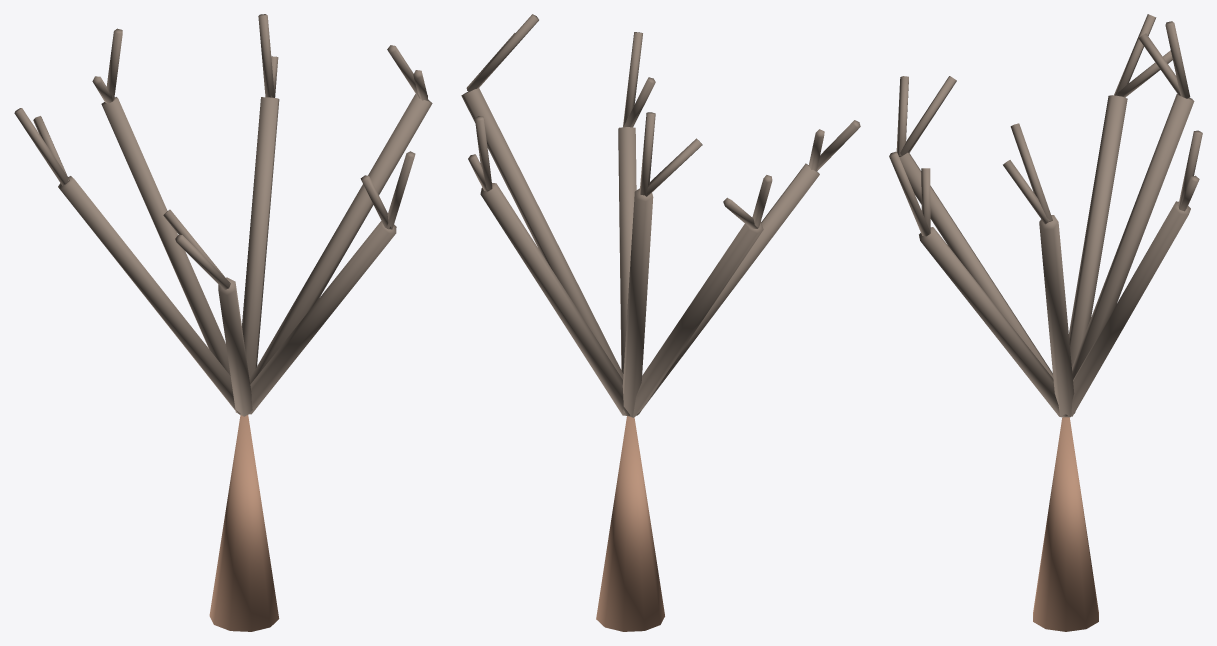
Rendered from tree_b_winter.glb.
3 views of the same model, side by side, from view 1: azimuth 30°, elevation 25°; view 2: azimuth 150°, elevation 25°; view 3: azimuth 270°, elevation 25° (orthographic).
Visible parts, largest first — view 1: branches, trunk; view 2: branches, trunk; view 3: branches, trunk.
Boxes of the visible parts, left/top/right/bottom form: branches: left=14, top=14, right=432, bottom=416; trunk: left=209, top=415, right=279, bottom=631; branches: left=461, top=14, right=860, bottom=417; trunk: left=596, top=416, right=664, bottom=631; branches: left=889, top=14, right=1202, bottom=417; trunk: left=1033, top=417, right=1098, bottom=631.
Bounding box in the file's own units: 4.34 × 6.46 × 3.28.
